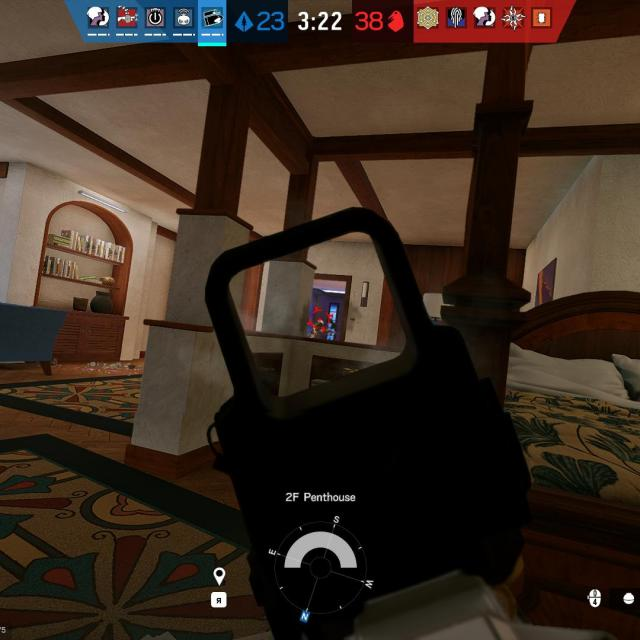Character: (309, 317, 332, 338)
